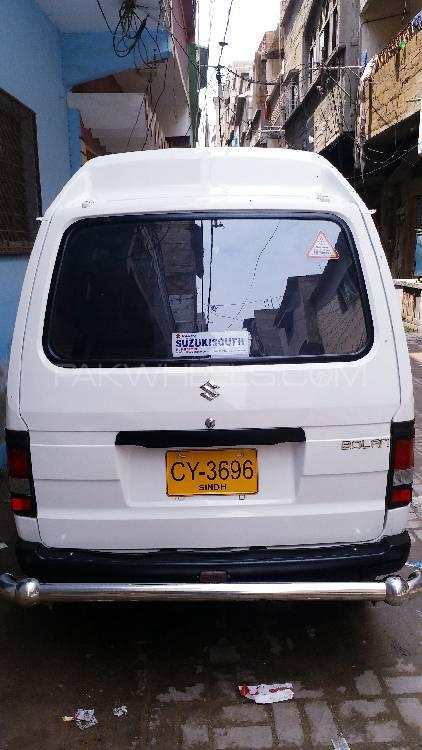license plate: (163, 445, 259, 498)
